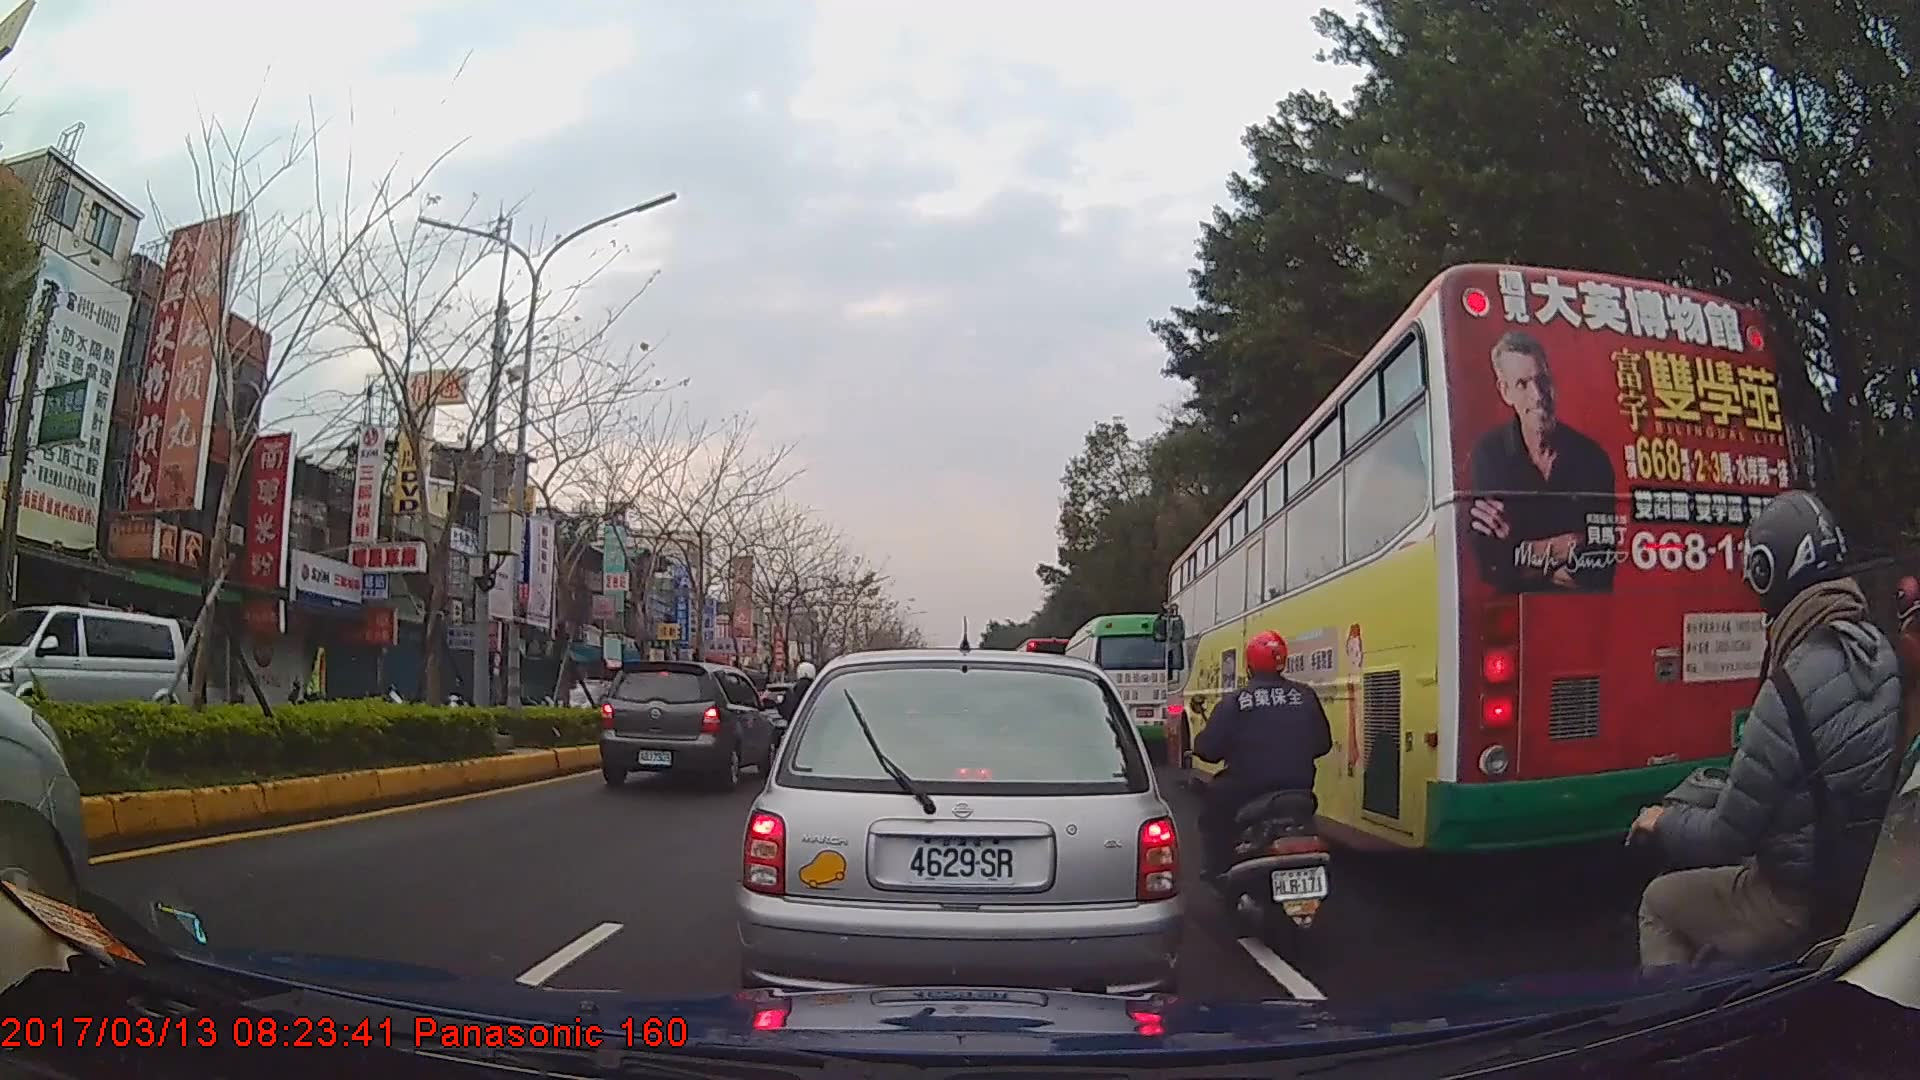rider: (1618, 488, 1913, 1067), (1187, 626, 1344, 953), (1816, 576, 1920, 879), (779, 663, 830, 781), (445, 677, 466, 707)
vehicle: (1160, 262, 1801, 872), (734, 650, 1183, 1014), (0, 603, 190, 734), (597, 661, 777, 788), (1059, 612, 1184, 760)
